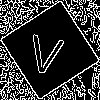V: (25, 25, 67, 77)
